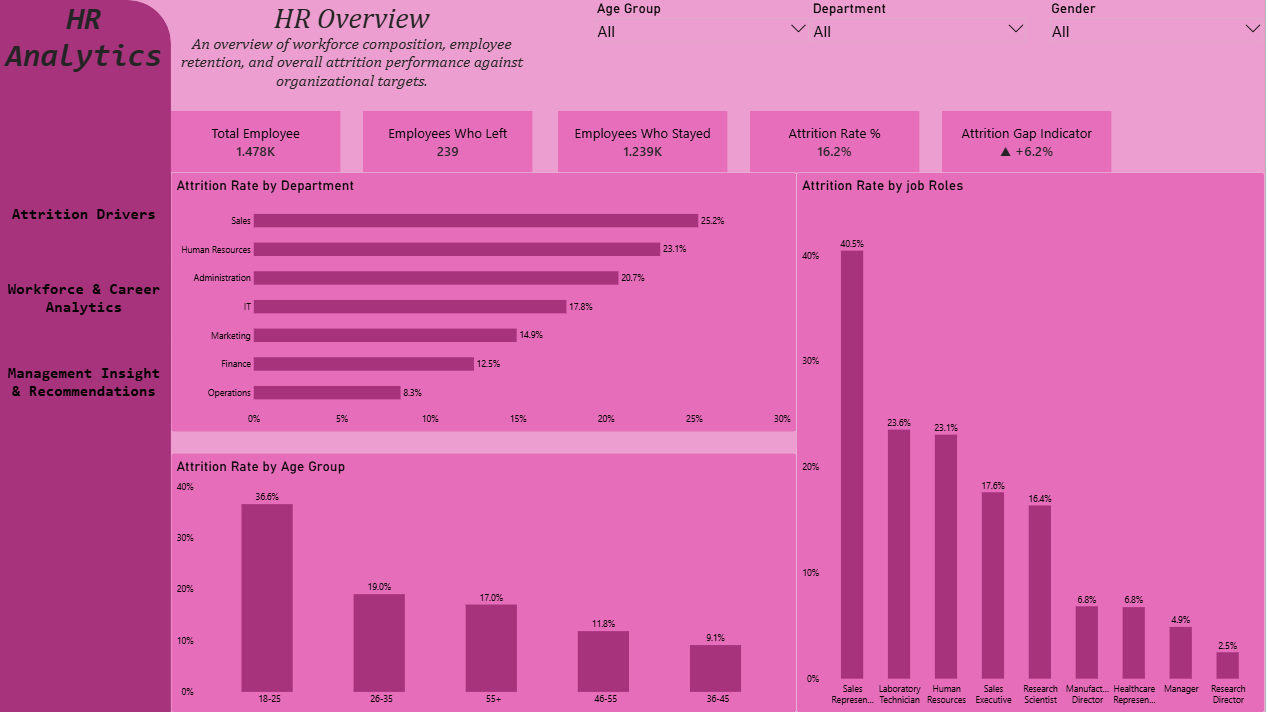

This screenshot's page, from the dashboard's own definition file:
{"tool":"powerbi","page":{"name":"HR Overview","canvas":[3840,2160],"ordinal":0},"visuals":[{"type":"shape","box":[0,0,526.9,2157.7],"z":0},{"type":"cardVisual","fields":{"Data":["496f786e-f4ca-42cd-b43c-a809dec.Total Employee"]},"box":[526.9,336.2,513.3,186.2],"z":1000},{"type":"cardVisual","fields":{"Data":["496f786e-f4ca-42cd-b43c-a809dec.Employees Who Left"]},"box":[1108.4,336.2,513.3,186.2],"z":2000},{"type":"cardVisual","fields":{"Data":["496f786e-f4ca-42cd-b43c-a809dec.Employees Who Stayed"]},"box":[1698.9,336.2,513.3,186.2],"z":3000},{"type":"cardVisual","fields":{"Data":["496f786e-f4ca-42cd-b43c-a809dec.Attrition Rate %"]},"box":[2280.4,336.2,513.3,186.2],"z":4000},{"type":"clusteredBarChart","title":"Attrition Rate by Department","fields":{"Category":["496f786e-f4ca-42cd-b43c-a809dec.Department"],"Y":["496f786e-f4ca-42cd-b43c-a809dec.Department Attrition Rate %"]},"box":[526.9,522.4,1894.3,785.9],"z":5000},{"type":"clusteredColumnChart","title":"Attrition Rate by Age Group","fields":{"Category":["496f786e-f4ca-42cd-b43c-a809dec.AgeGroup"],"Y":["496f786e-f4ca-42cd-b43c-a809dec.Department Attrition Rate %"]},"box":[526.9,1371.9,1894.3,785.9],"z":6000},{"type":"cardVisual","fields":{"Data":["496f786e-f4ca-42cd-b43c-a809dec.Attrition Gap Indicator"]},"box":[2861.8,336.2,513.3,186.2],"z":7000},{"type":"slicer","fields":{"Values":["496f786e-f4ca-42cd-b43c-a809dec.Department"]},"box":[2462.1,0,658.7,145.4],"z":8000},{"type":"clusteredColumnChart","title":"Attrition Rate by job Roles","fields":{"Category":["496f786e-f4ca-42cd-b43c-a809dec.JobRole"],"Y":["496f786e-f4ca-42cd-b43c-a809dec.Department Attrition Rate %"]},"box":[2421.2,522.4,1417.3,1635.3],"z":9000},{"type":"slicer","fields":{"Values":["496f786e-f4ca-42cd-b43c-a809dec.Gender"]},"box":[3184.4,0,654.1,145.4],"z":10000},{"type":"slicer","fields":{"Values":["496f786e-f4ca-42cd-b43c-a809dec.AgeGroup"]},"box":[1808,0,654.1,145.4],"z":11000},{"type":"textbox","box":[526.9,0,1094.8,336.2],"z":11001},{"type":"textbox","box":[0,0,526.9,336.2],"z":11002},{"type":"actionButton","box":[0,522.4,526.9,254.4],"z":11003},{"type":"actionButton","box":[0,776.8,526.9,254.4],"z":11004},{"type":"actionButton","box":[0,1031.2,526.9,254.4],"z":11005}]}

Visuals, with their boxes in screenshot pixels (x1, y1, x2, y2), scaled from the page's 3840x2160 canvas onto the 1268x712 screenshot:
shape: 0/0/174/711
cardVisual - 496f786e-f4ca-42cd-b43c-a809dec.Total Employee: 174/111/343/172
cardVisual - 496f786e-f4ca-42cd-b43c-a809dec.Employees Who Left: 366/111/535/172
cardVisual - 496f786e-f4ca-42cd-b43c-a809dec.Employees Who Stayed: 561/111/730/172
cardVisual - 496f786e-f4ca-42cd-b43c-a809dec.Attrition Rate %: 753/111/923/172
"Attrition Rate by Department" clusteredBarChart: 174/172/800/431
"Attrition Rate by Age Group" clusteredColumnChart: 174/452/800/711
cardVisual - 496f786e-f4ca-42cd-b43c-a809dec.Attrition Gap Indicator: 945/111/1114/172
slicer - 496f786e-f4ca-42cd-b43c-a809dec.Department: 813/0/1031/48
"Attrition Rate by job Roles" clusteredColumnChart: 800/172/1267/711
slicer - 496f786e-f4ca-42cd-b43c-a809dec.Gender: 1052/0/1267/48
slicer - 496f786e-f4ca-42cd-b43c-a809dec.AgeGroup: 597/0/813/48
textbox: 174/0/535/111
textbox: 0/0/174/111
actionButton: 0/172/174/256
actionButton: 0/256/174/340
actionButton: 0/340/174/424
